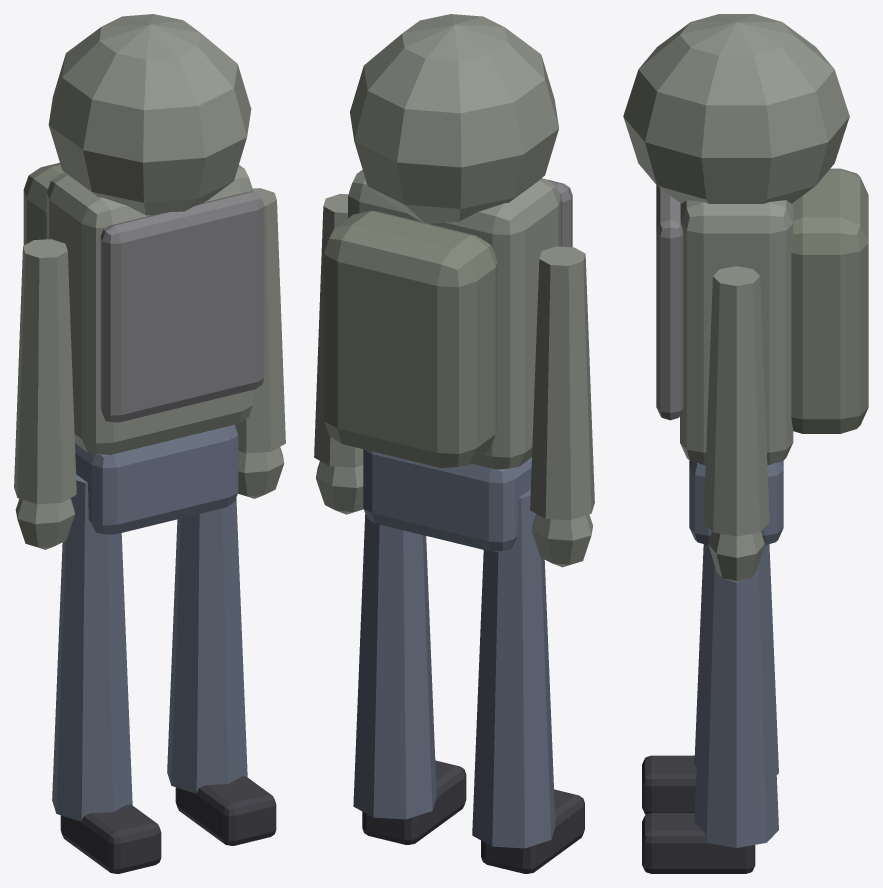
Rendered from player_survivor.glb.
The picture shows the model from 3 angles, left to right: view 1: azimuth 30°, elevation 25°; view 2: azimuth 150°, elevation 25°; view 3: azimuth 270°, elevation 25°; orthographic projection. The views are drawn at different scales.
Visible parts, largest first — view 1: survivor_vest, survivor_head, survivor_leg_l, survivor_leg_r, survivor_torso, survivor_arm_l, survivor_pelvis, survivor_arm_r, survivor_foot_r, survivor_foot_l, survivor_hand_l, survivor_backpack (+1 smaller); view 2: survivor_backpack, survivor_head, survivor_leg_l, survivor_leg_r, survivor_arm_l, survivor_torso, survivor_pelvis, survivor_foot_r, survivor_foot_l, survivor_arm_r, survivor_hand_l, survivor_hand_r (+1 smaller); view 3: survivor_head, survivor_leg_r, survivor_backpack, survivor_torso, survivor_arm_r, survivor_vest, survivor_foot_r, survivor_foot_l, survivor_pelvis, survivor_hand_r, survivor_leg_l.
Part boxes in pixels (x1=…): survivor_vest: x1=100, y1=192, x2=264, y2=422; survivor_head: x1=48, y1=14, x2=251, y2=215; survivor_leg_l: x1=52, y1=474, x2=132, y2=821; survivor_leg_r: x1=167, y1=498, x2=247, y2=793; survivor_torso: x1=47, y1=165, x2=252, y2=455; survivor_arm_l: x1=14, y1=239, x2=76, y2=504; survivor_pelvis: x1=75, y1=424, x2=238, y2=534; survivor_arm_r: x1=235, y1=188, x2=285, y2=453; survivor_foot_r: x1=175, y1=776, x2=276, y2=845; survivor_foot_l: x1=60, y1=804, x2=161, y2=873; survivor_hand_l: x1=15, y1=498, x2=74, y2=549; survivor_backpack: x1=23, y1=162, x2=64, y2=245; survivor_backpack: x1=324, y1=211, x2=497, y2=468; survivor_head: x1=350, y1=14, x2=558, y2=223; survivor_leg_l: x1=472, y1=489, x2=555, y2=848; survivor_leg_r: x1=353, y1=514, x2=436, y2=819; survivor_arm_l: x1=530, y1=246, x2=594, y2=520; survivor_torso: x1=348, y1=170, x2=560, y2=469; survivor_pelvis: x1=363, y1=449, x2=531, y2=551; survivor_foot_r: x1=362, y1=760, x2=466, y2=844; survivor_foot_l: x1=481, y1=789, x2=584, y2=873; survivor_arm_r: x1=314, y1=193, x2=363, y2=467; survivor_hand_l: x1=531, y1=514, x2=592, y2=567; survivor_hand_r: x1=316, y1=461, x2=363, y2=514; survivor_head: x1=623, y1=14, x2=849, y2=203; survivor_leg_r: x1=694, y1=545, x2=778, y2=847; survivor_backpack: x1=791, y1=168, x2=868, y2=433; survivor_torso: x1=680, y1=200, x2=793, y2=464; survivor_arm_r: x1=703, y1=266, x2=769, y2=536; survivor_vest: x1=656, y1=185, x2=683, y2=420; survivor_foot_r: x1=642, y1=812, x2=755, y2=873; survivor_foot_l: x1=642, y1=755, x2=696, y2=814; survivor_pelvis: x1=689, y1=460, x2=783, y2=545; survivor_hand_r: x1=708, y1=531, x2=764, y2=582; survivor_leg_l: x1=694, y1=544, x2=778, y2=774.
Size of the model in its own units: 0.66 by 1.9 by 0.52.
